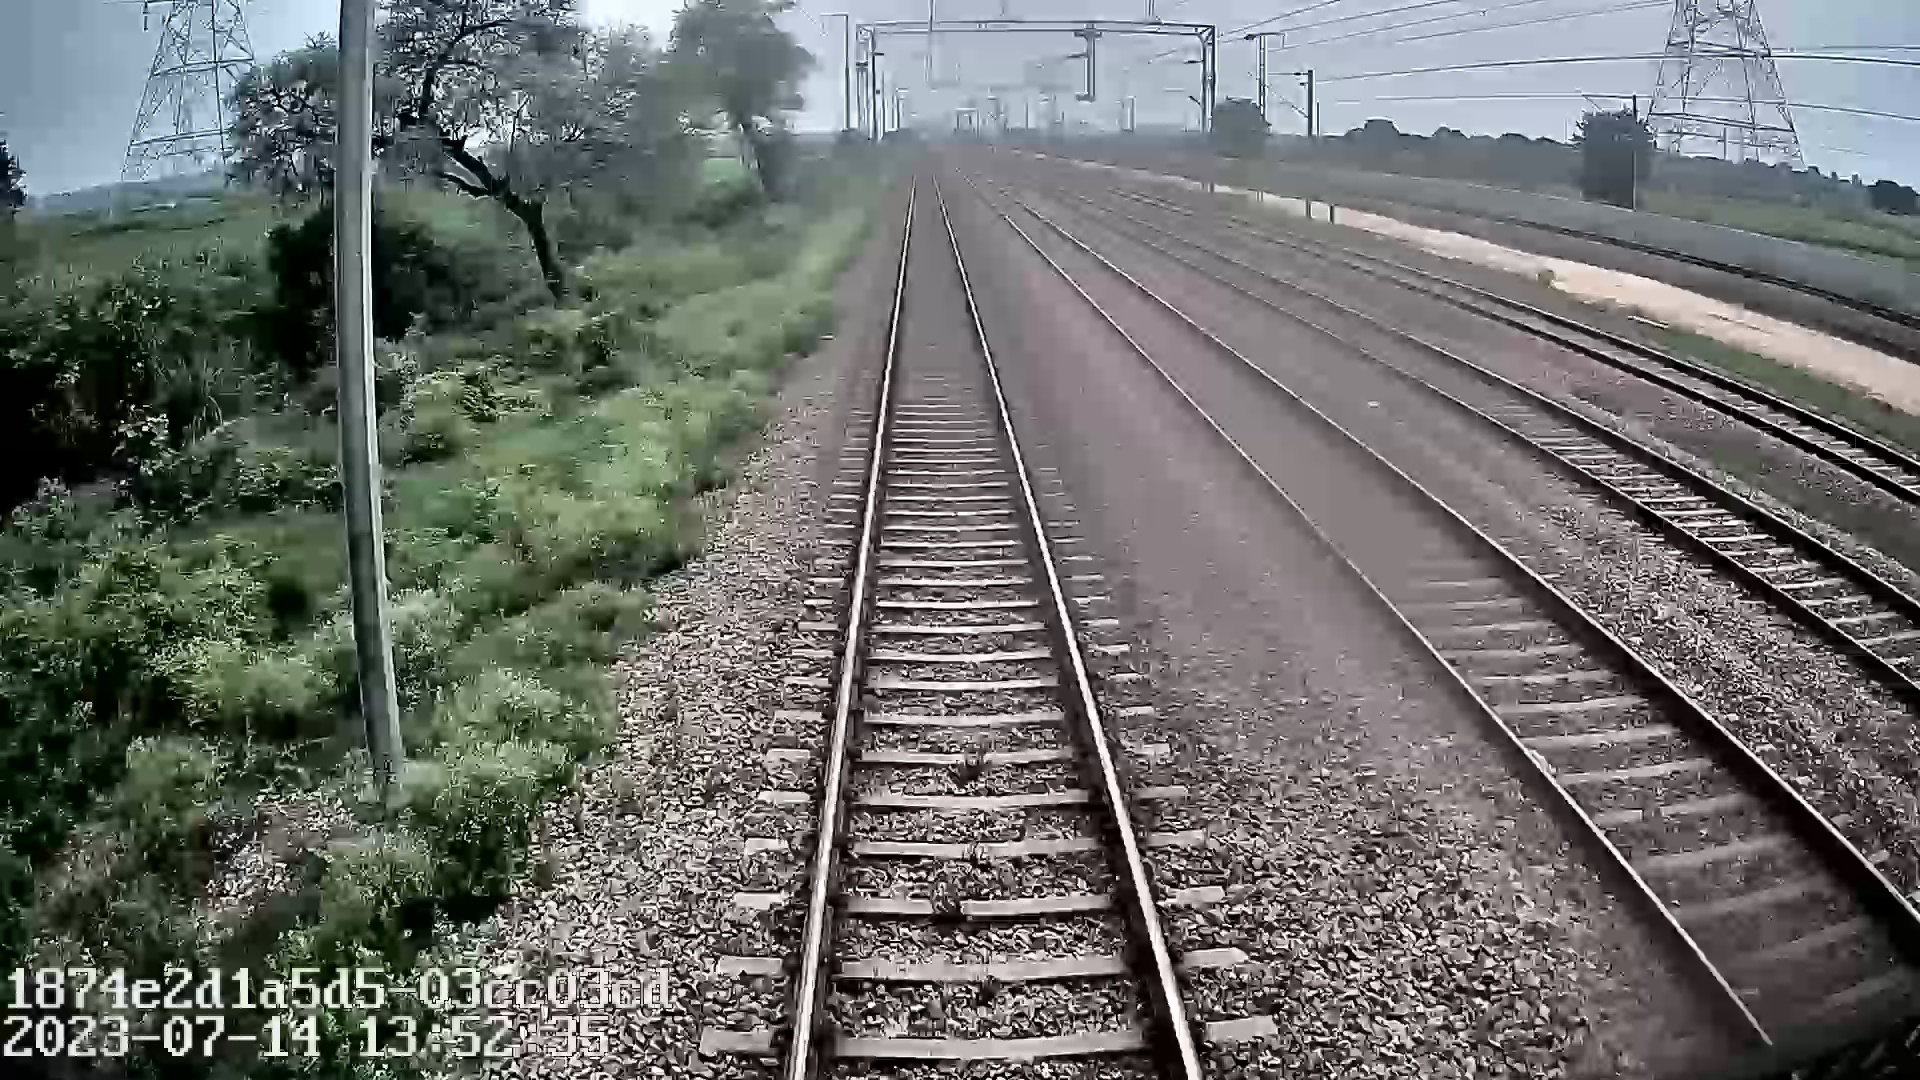track1: (798, 178, 1193, 1072)
track2: (996, 199, 1913, 1034)
track3: (1108, 214, 1919, 679)
track4: (1339, 250, 1919, 494)
